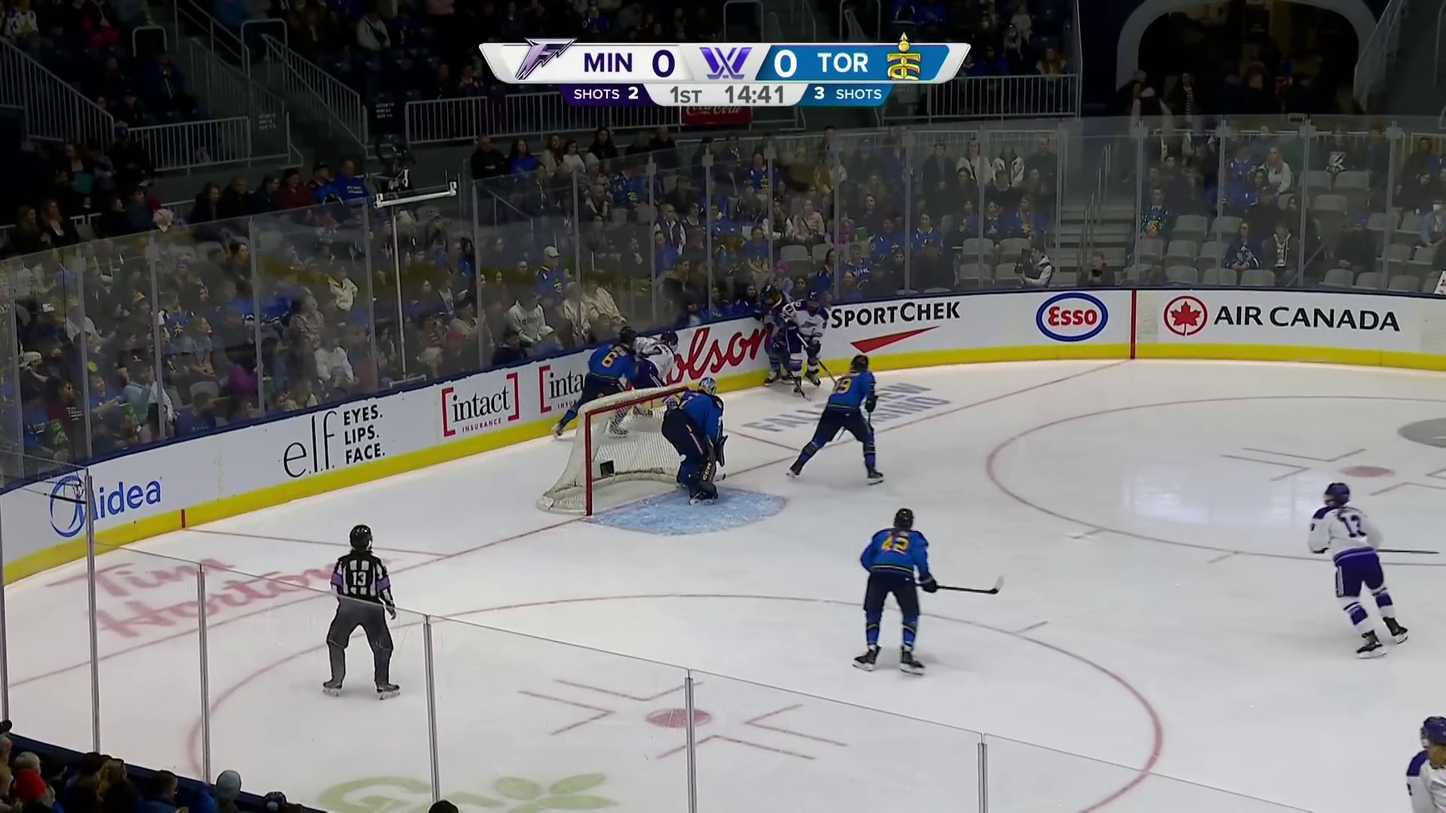goalkeeper: (660, 375, 729, 503)
player: (1301, 479, 1416, 660), (851, 507, 940, 677), (784, 353, 881, 484), (545, 325, 637, 440), (777, 292, 828, 394), (629, 328, 678, 417), (757, 281, 791, 384)
referee: (318, 519, 401, 699)
